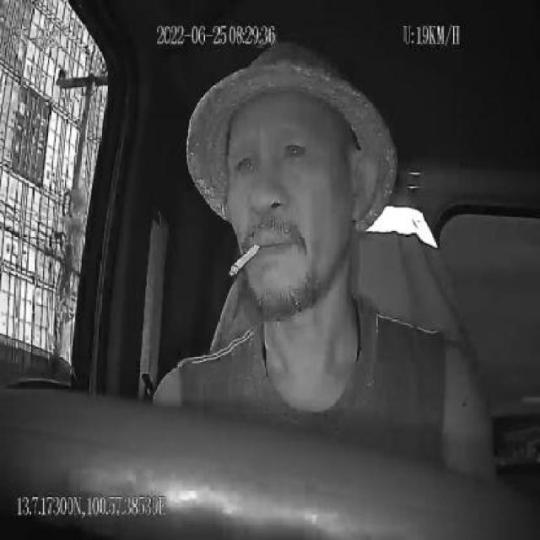smoking: (229, 240, 260, 274)
